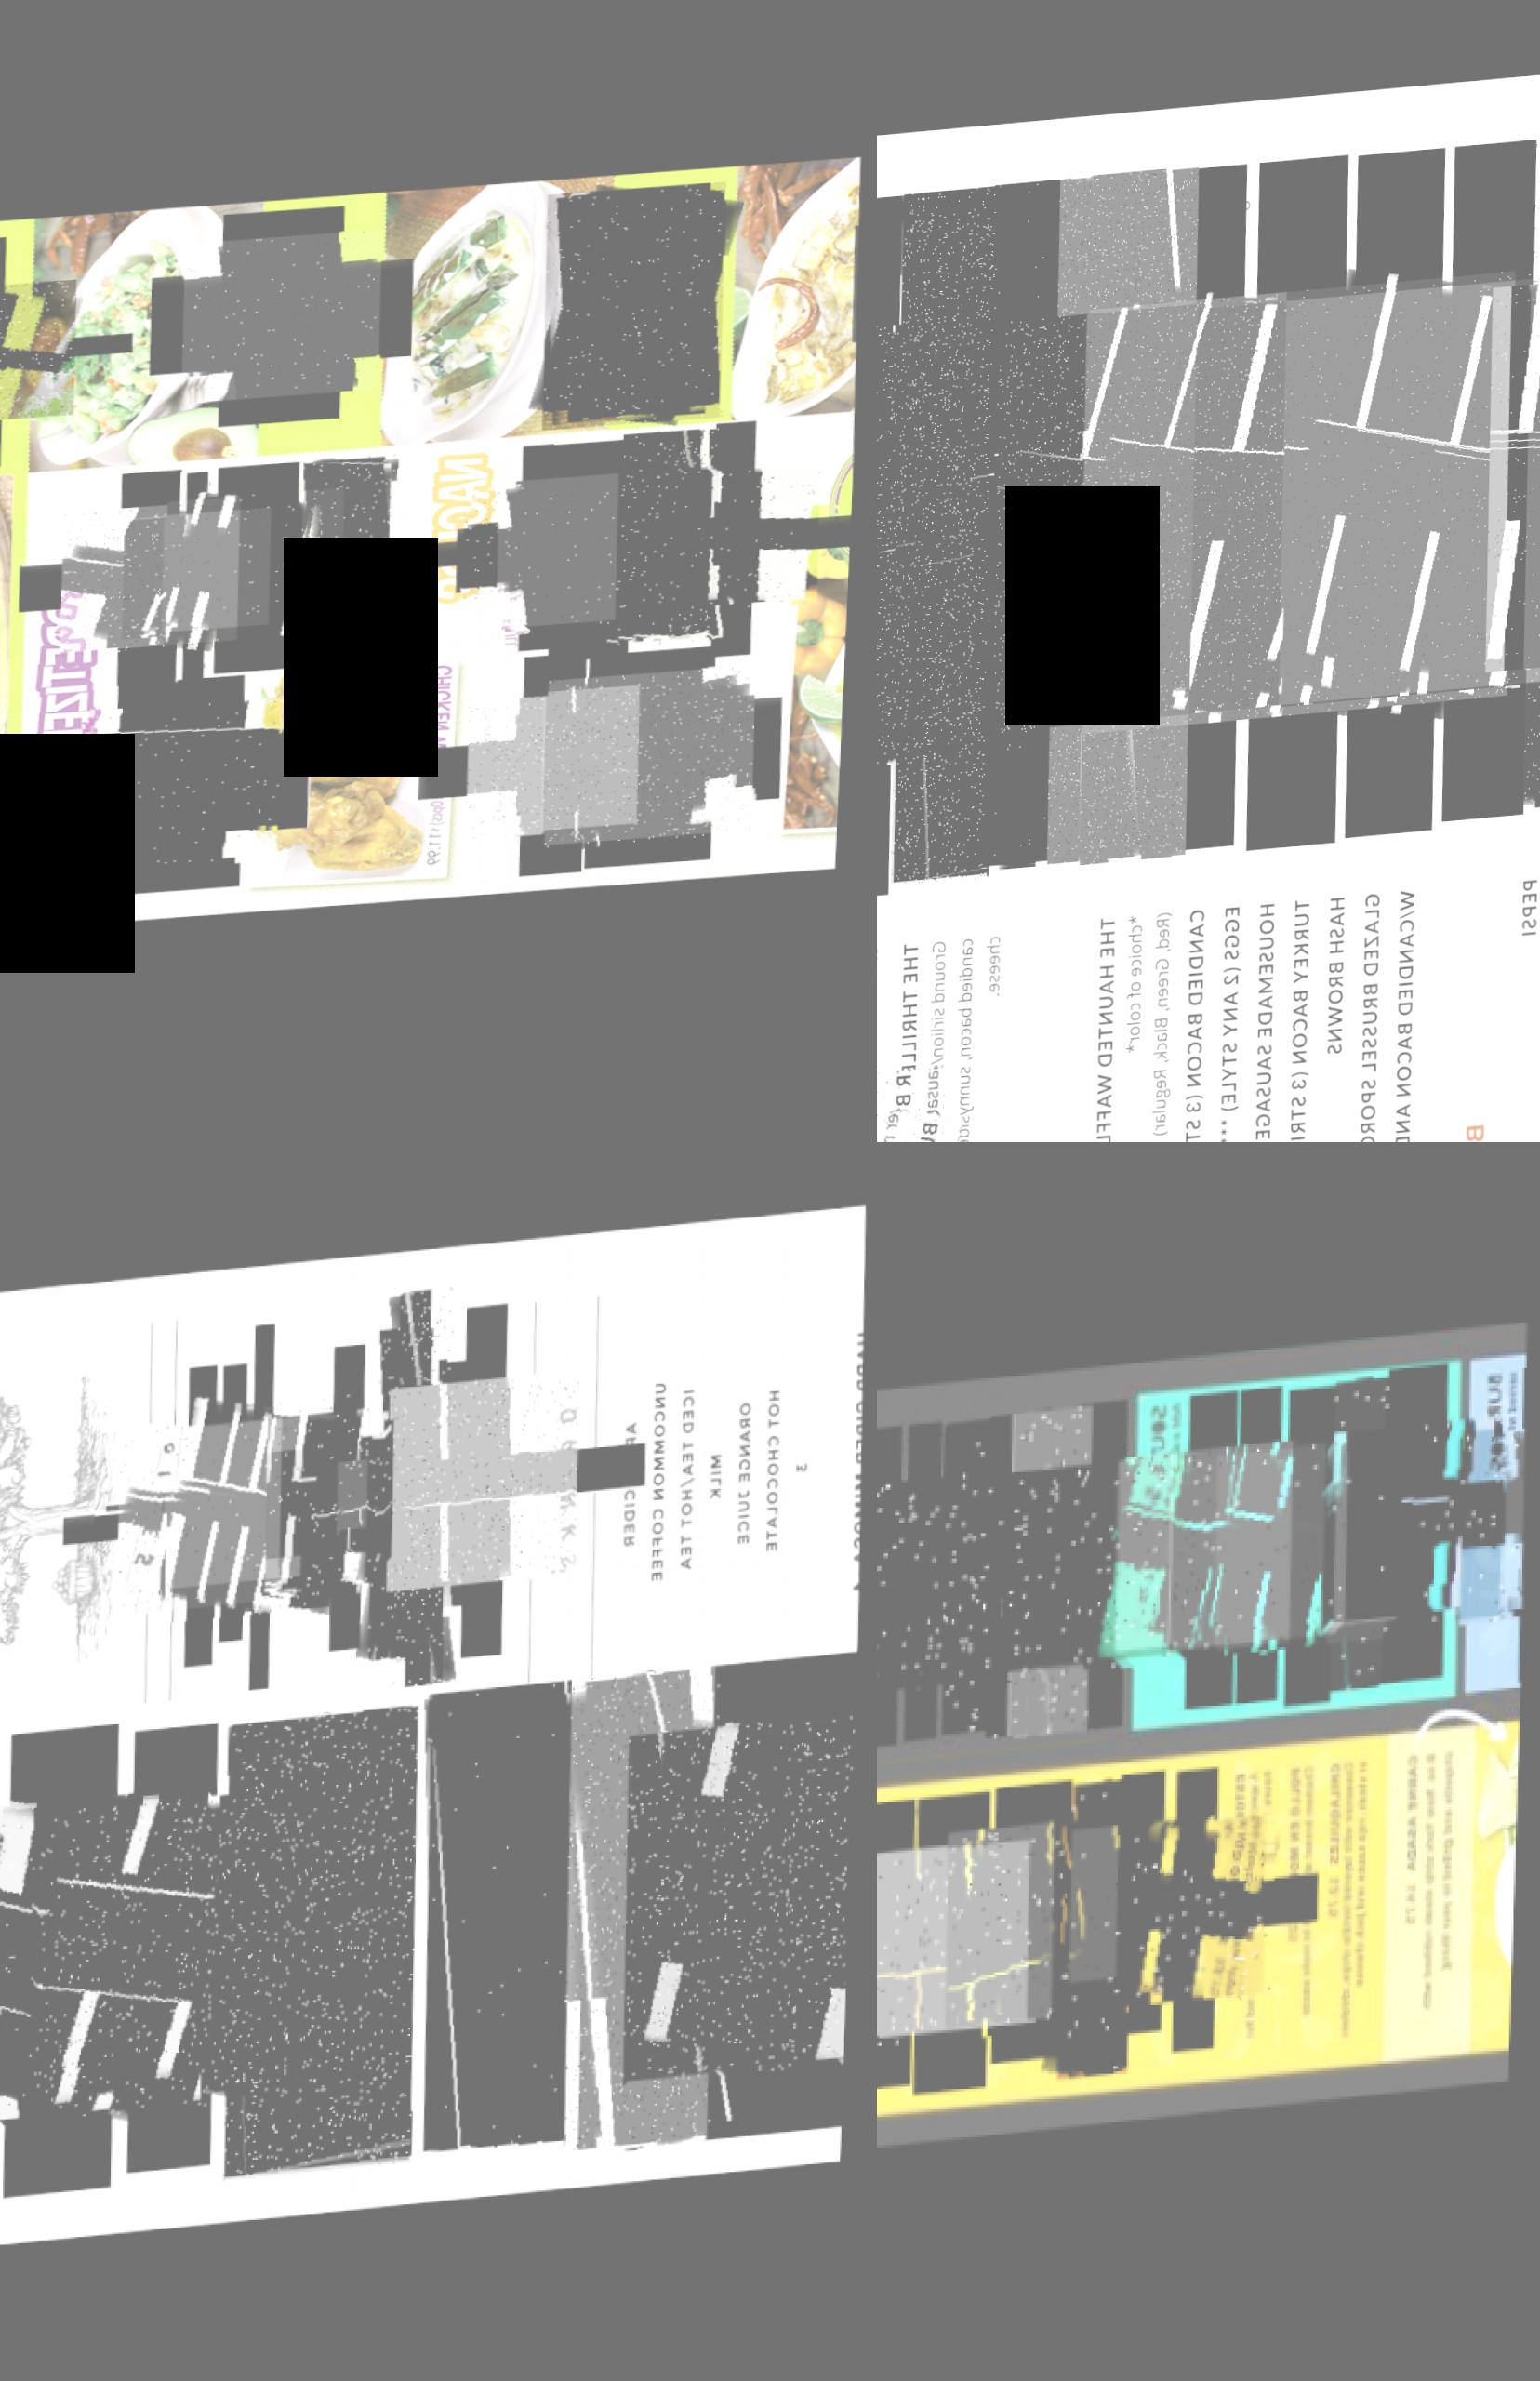Menu-Items: (1082, 283, 1528, 741), (995, 295, 1427, 738), (1190, 286, 1540, 722), (1044, 173, 1215, 874), (1279, 269, 1540, 716), (877, 314, 1086, 787), (223, 1711, 430, 2184), (37, 1790, 322, 2109), (888, 190, 1016, 891), (979, 182, 1108, 876), (628, 1726, 860, 2095), (420, 1689, 591, 2170), (564, 1676, 733, 2163), (0, 1789, 223, 2130), (541, 190, 737, 437), (877, 322, 983, 776), (163, 1395, 368, 1625), (391, 1380, 584, 1598), (1012, 1457, 1201, 1678), (1222, 1443, 1406, 1657), (549, 675, 766, 856), (1124, 1446, 1306, 1661), (1330, 1426, 1507, 1638), (950, 1816, 1126, 2026), (1177, 1444, 1352, 1652), (84, 701, 291, 874), (181, 233, 388, 406), (877, 1838, 1048, 2044), (117, 1420, 292, 1617), (266, 1409, 434, 1598), (500, 477, 694, 639), (1120, 1818, 1281, 2009), (166, 490, 357, 651), (1071, 908, 1196, 1142), (877, 1473, 1015, 1683), (1016, 1404, 1101, 1737), (392, 1293, 463, 1695), (887, 931, 1021, 1142), (63, 503, 247, 657), (160, 1419, 313, 1592), (650, 474, 828, 623), (472, 697, 649, 845), (1072, 1821, 1220, 1993), (1059, 1778, 1142, 2081), (368, 1331, 436, 1668), (1331, 1382, 1401, 1696), (302, 459, 405, 665), (877, 1470, 975, 1688), (1395, 1744, 1468, 2029), (388, 1416, 524, 1568), (465, 489, 617, 619), (619, 438, 709, 656), (877, 1842, 976, 2037), (126, 514, 279, 640), (943, 1417, 1001, 1734), (1321, 1749, 1380, 2053), (988, 1412, 1040, 1737), (1229, 1766, 1285, 2054), (1314, 899, 1372, 1142), (1175, 906, 1233, 1142), (1246, 904, 1304, 1142), (1281, 904, 1337, 1142), (1349, 898, 1404, 1142), (1462, 1440, 1531, 1631), (1212, 907, 1266, 1142), (1279, 1762, 1324, 2035), (671, 437, 728, 653), (271, 1447, 375, 1563), (0, 279, 81, 420), (1397, 888, 1436, 1142), (273, 1418, 312, 1594), (342, 1462, 415, 1541)
